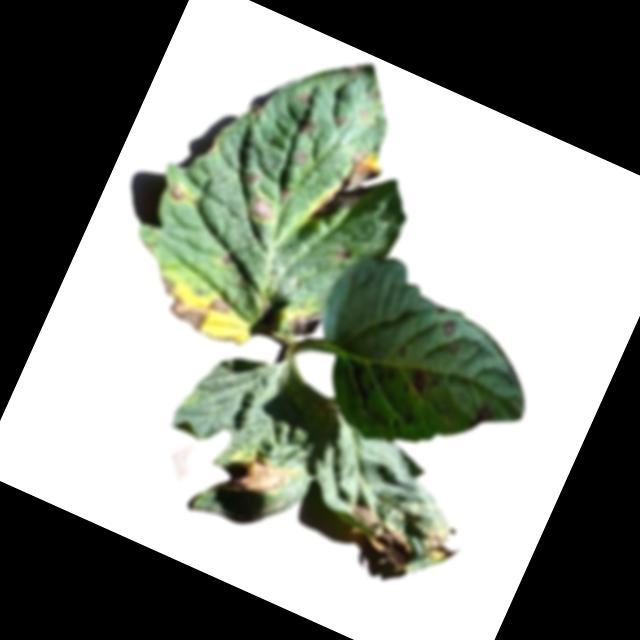Early_blight: (144, 266, 236, 342), (336, 501, 424, 574), (224, 445, 296, 509), (415, 518, 468, 570), (281, 302, 325, 345), (245, 195, 276, 223), (162, 181, 189, 205), (290, 87, 317, 110), (294, 118, 320, 141), (439, 319, 461, 343), (329, 111, 349, 131), (216, 250, 236, 269), (241, 171, 259, 189), (276, 185, 292, 205), (291, 151, 307, 169), (336, 248, 351, 264)
